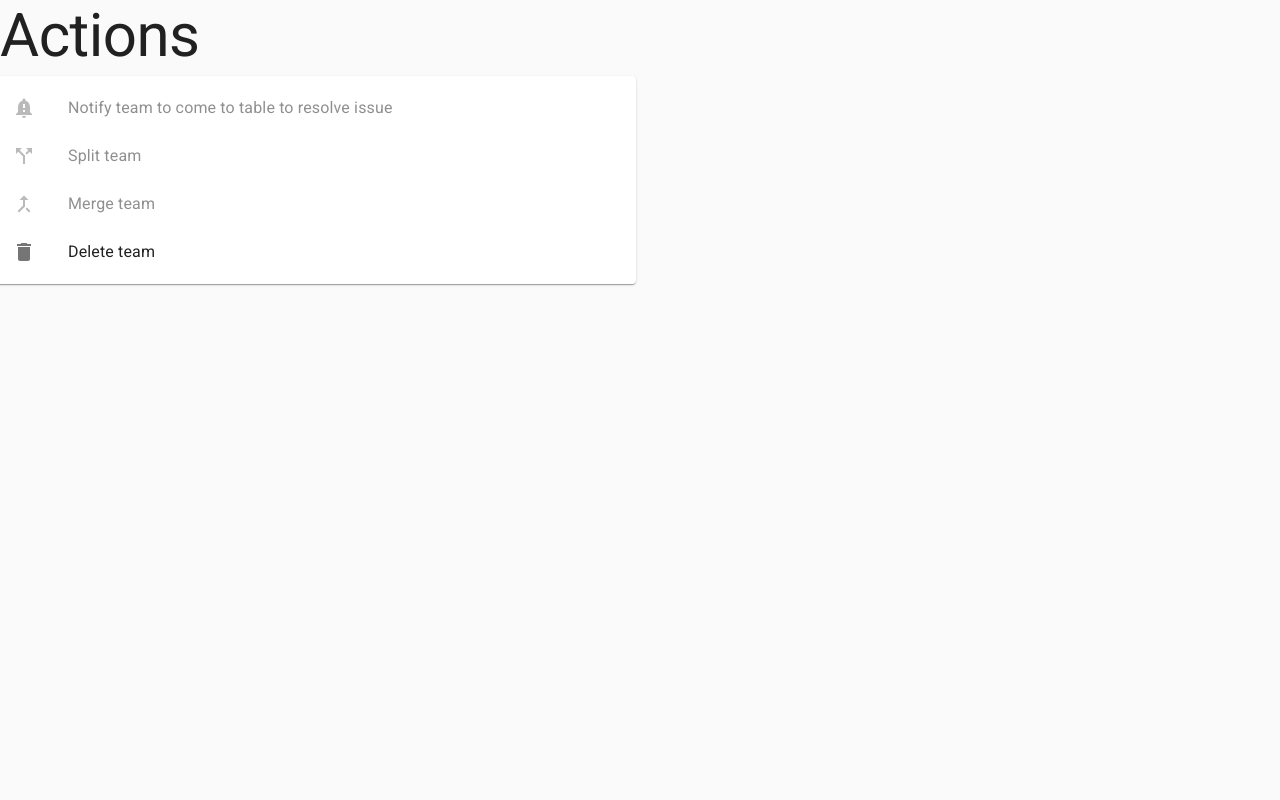
Scenario: Team action table › Shows the delete team confirmation modal when 'Delete' button is clicked
# Click the 'Delete team' button
Click the button "Delete team".
click(84, 252)  # box [12,240,155,264]
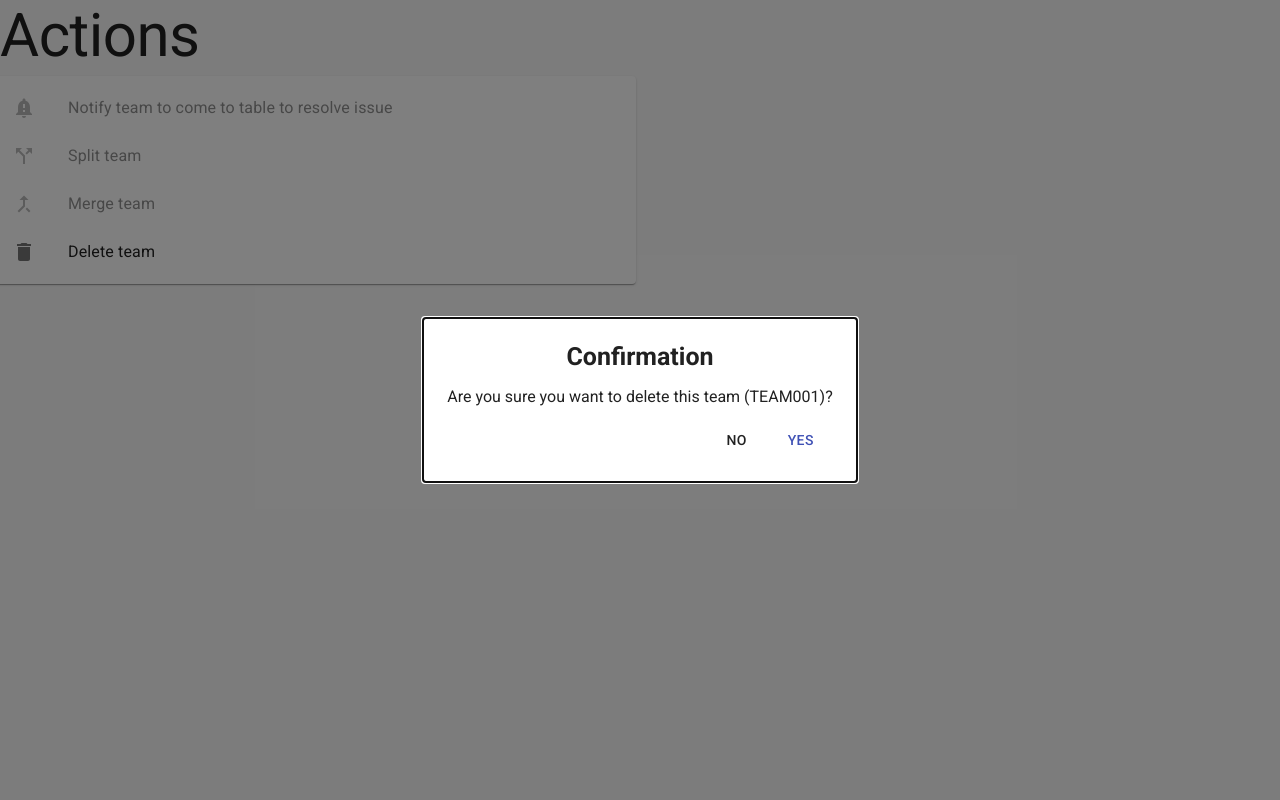
Now the heading "Confirmation" is shown, box [566,342,714,371]
Now the text "Are you sure you want to delete this team (TEAM001)?" is shown, box [447,387,833,406]
